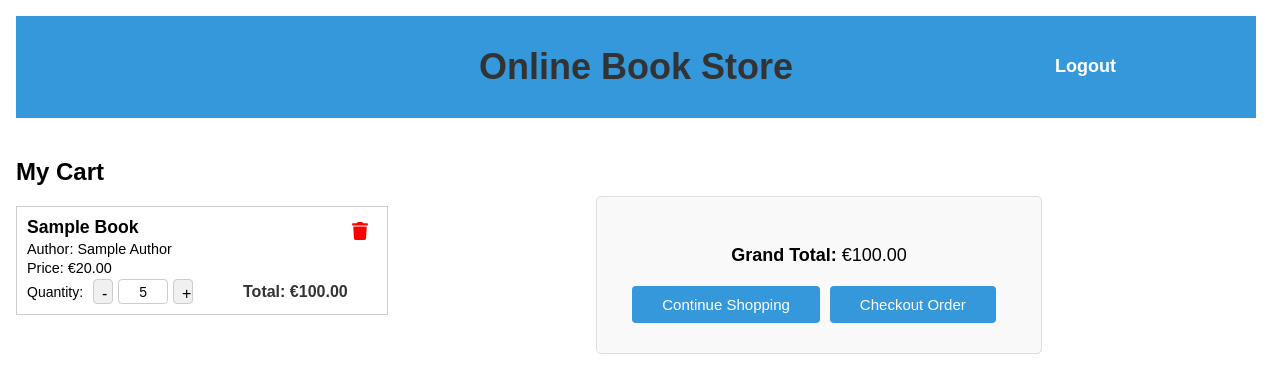
Test: User can increment the quantity in the cart page
Expected: the heading "Online Book Store" is shown, [479,46,793,87]
Expected: the text "Quantity:" is shown, [27,284,83,300]
Click the button "+" at (183, 292), box [173,279,193,304]
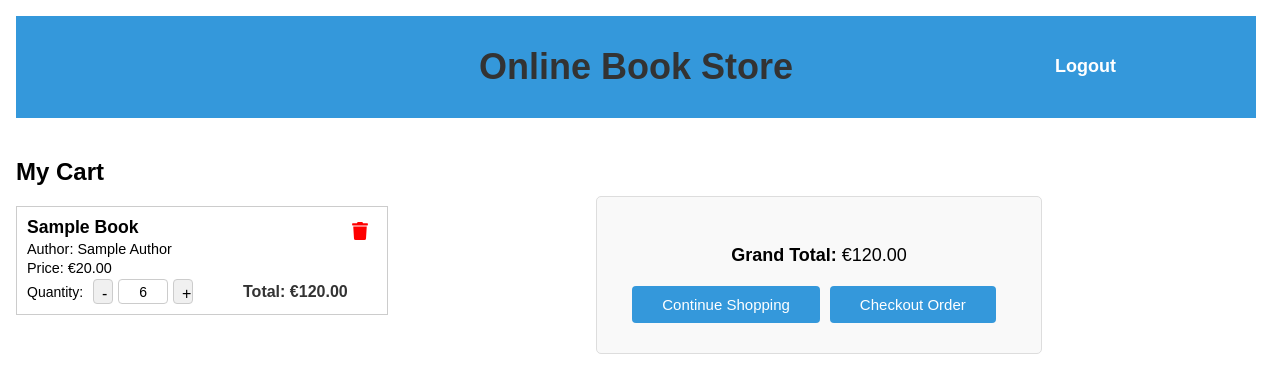
Expected: the field with test id "quantity-123" holds "6", [118,279,168,304]
